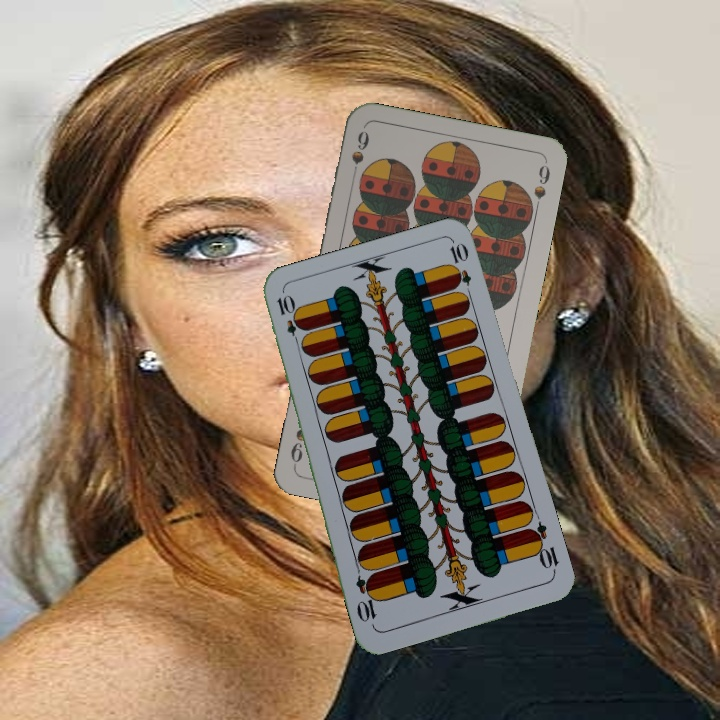E10: (524, 518, 561, 576), (273, 291, 304, 349)
S9: (347, 127, 372, 184)
